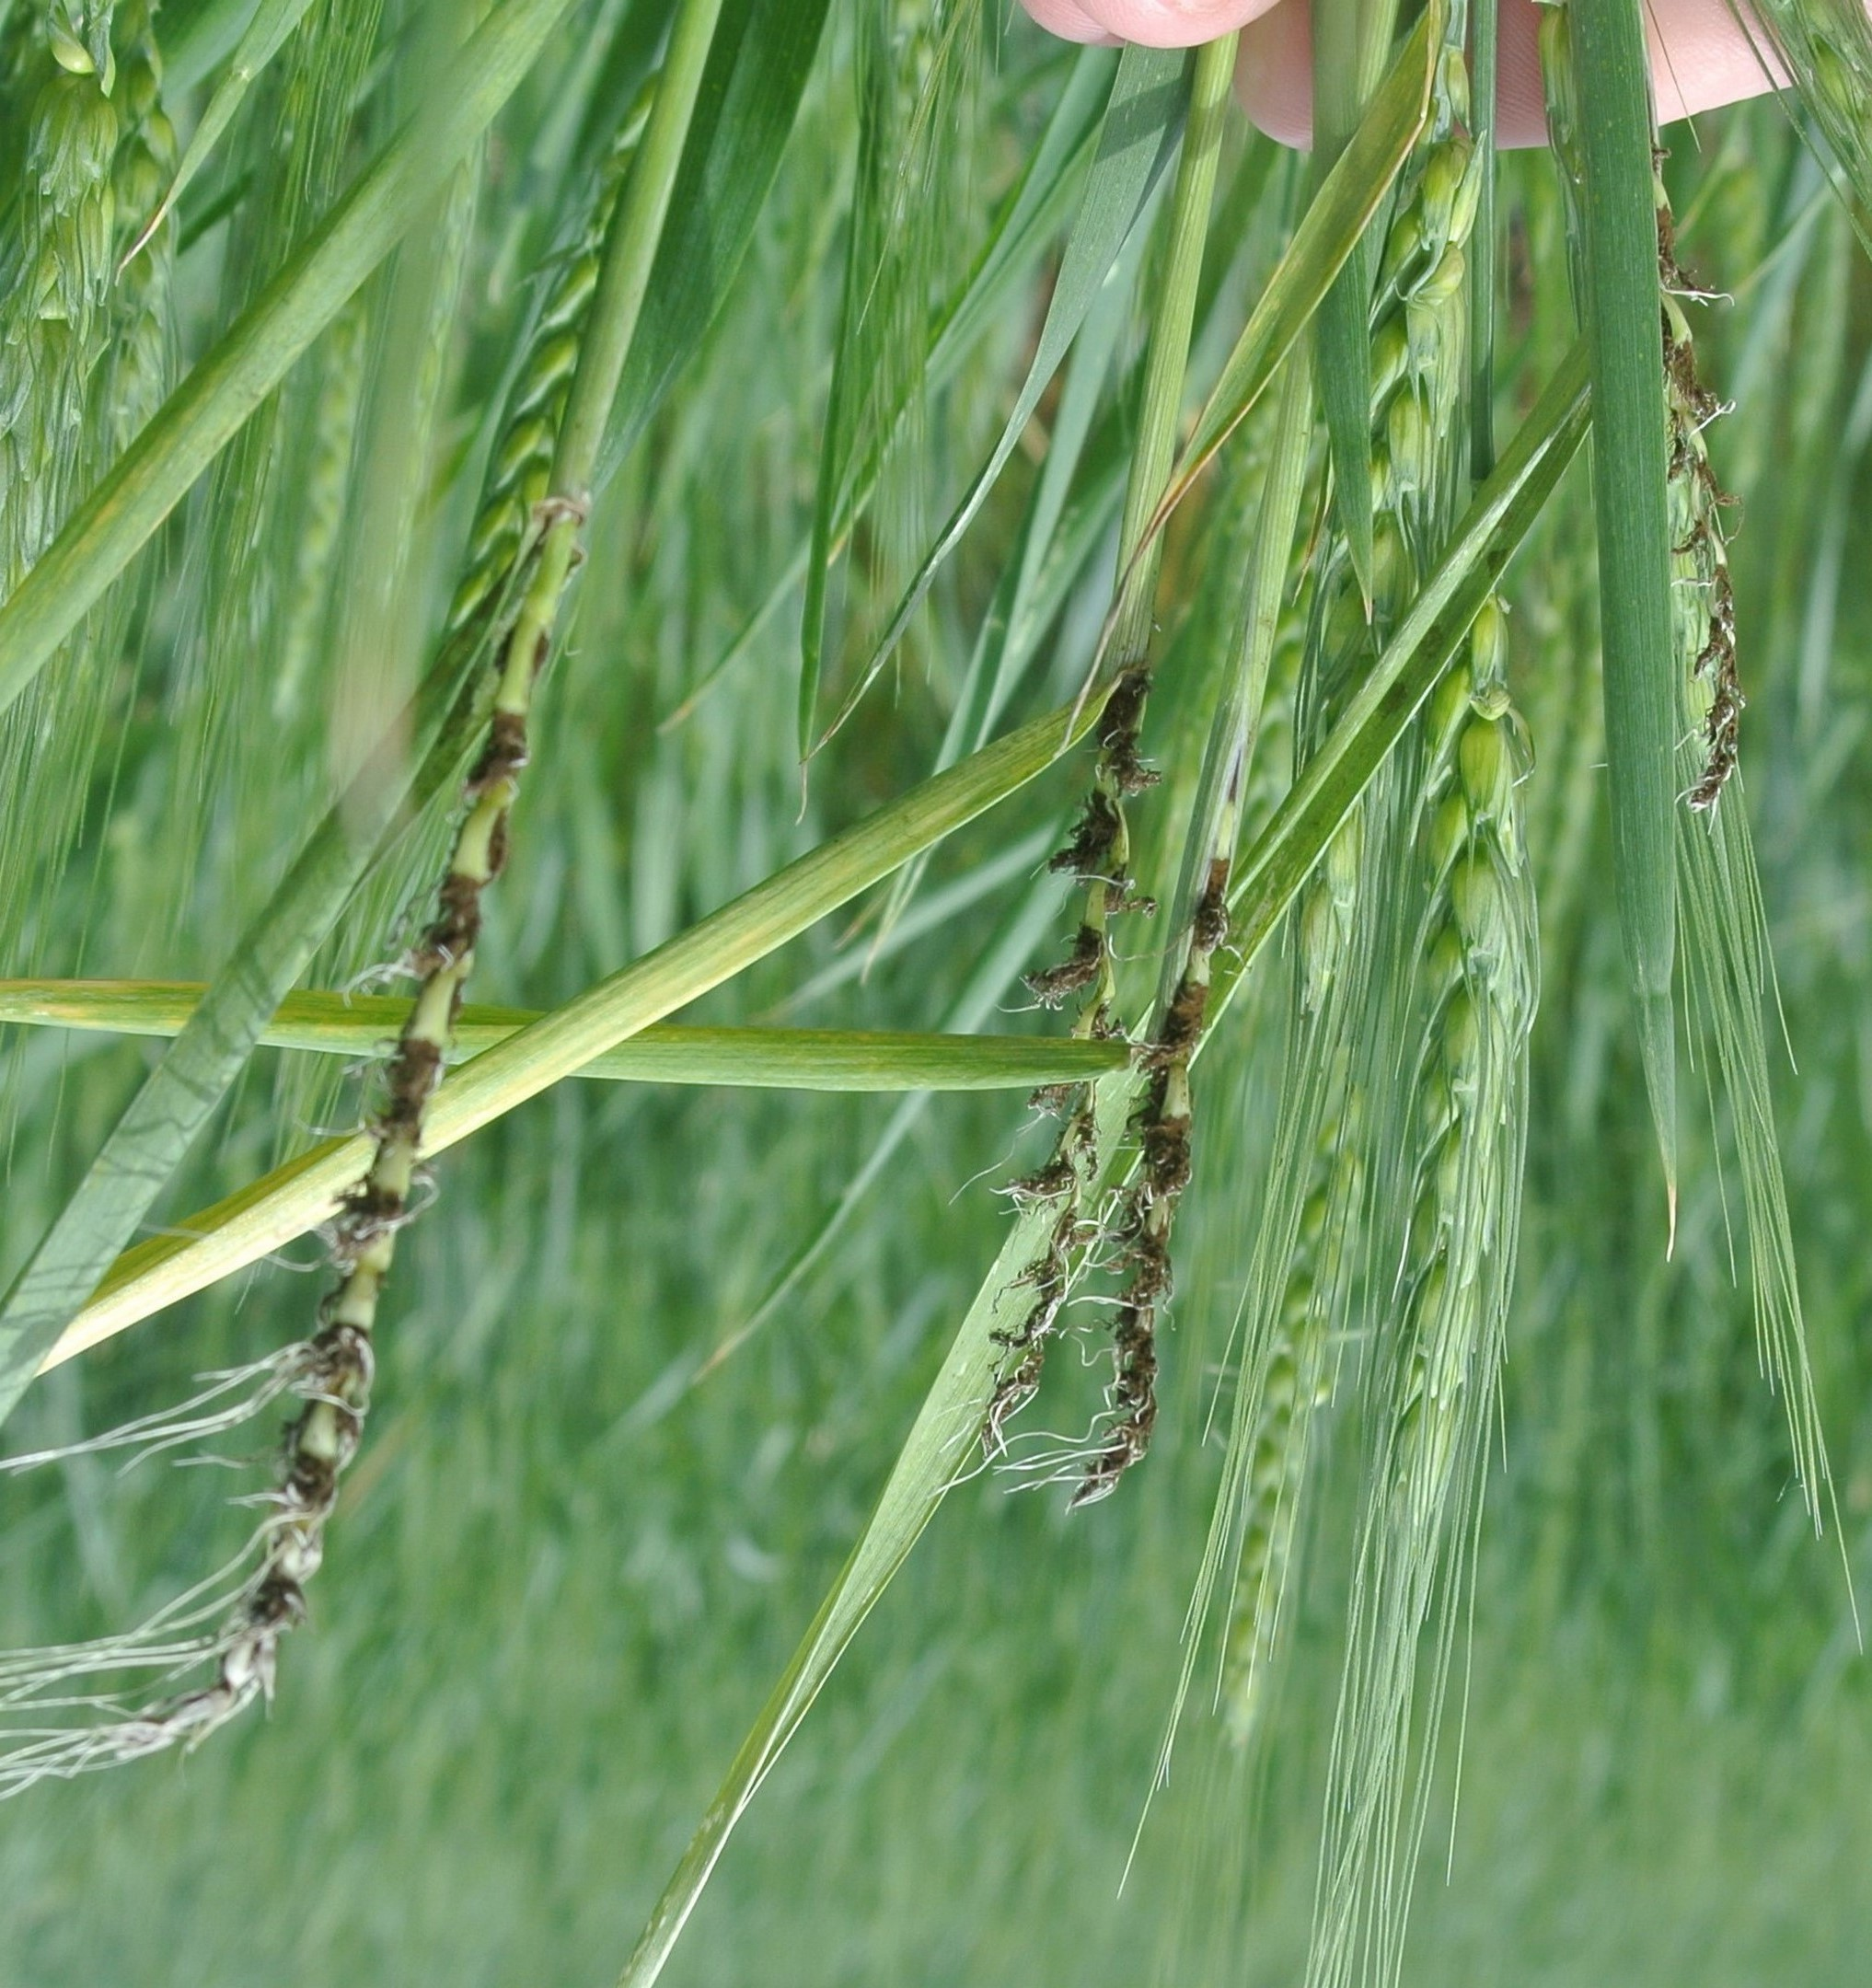Wheat Loose Smut: (971, 667, 1246, 1553)
